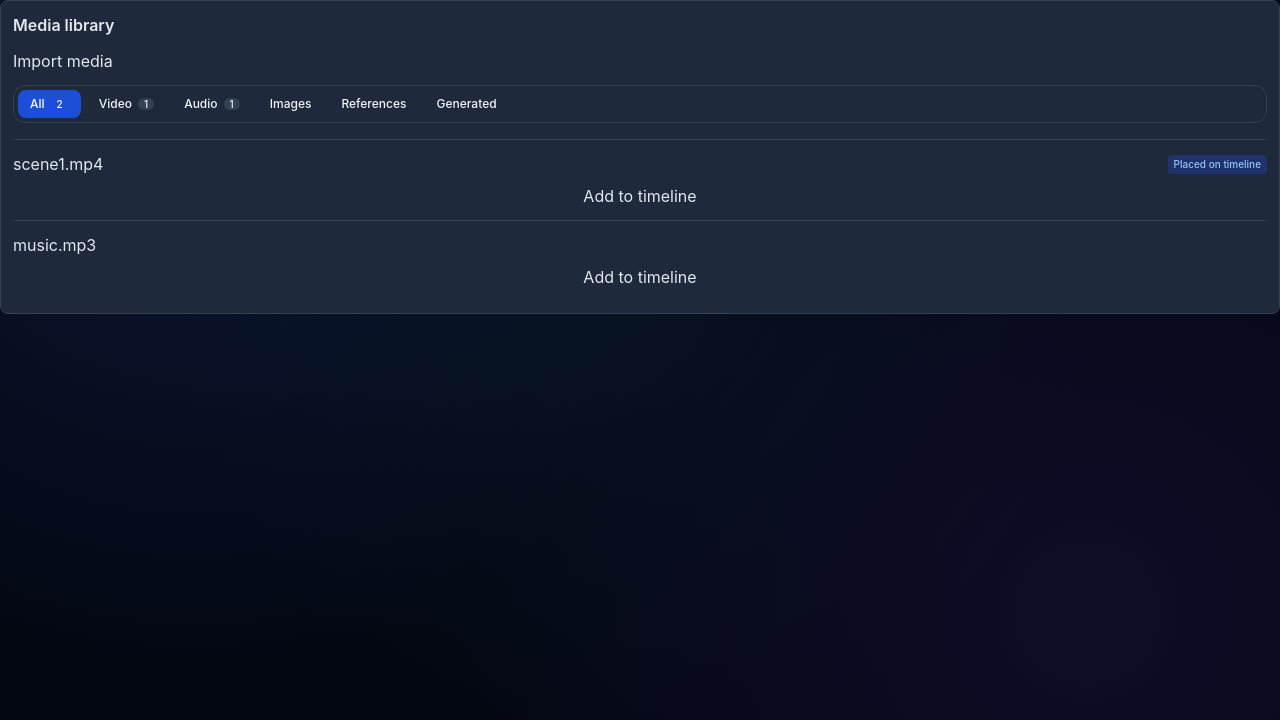
Test case: EditorMediaPanel › filters assets and shows placed-on-timeline indicator
The image size is (1280, 720).
Expected: the text "scene1.mp4" is shown, [13,152,103,176]
Expected: the text "music.mp3" is shown, [13,233,96,257]
// Switch filter to Audio
Click the tab "Audio1" at (212, 104), box [172,90,252,118]
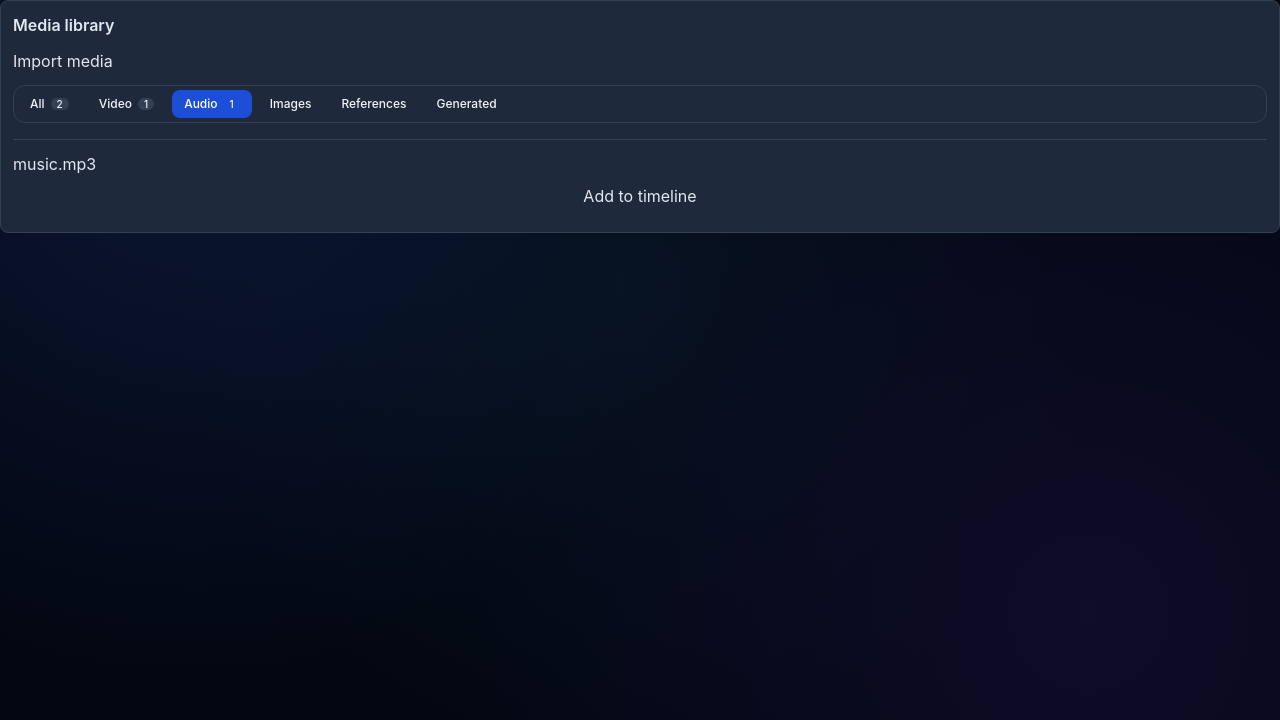
Expected: the text "music.mp3" is shown, [13,152,96,176]
Now the text "scene1.mp4" is gone
